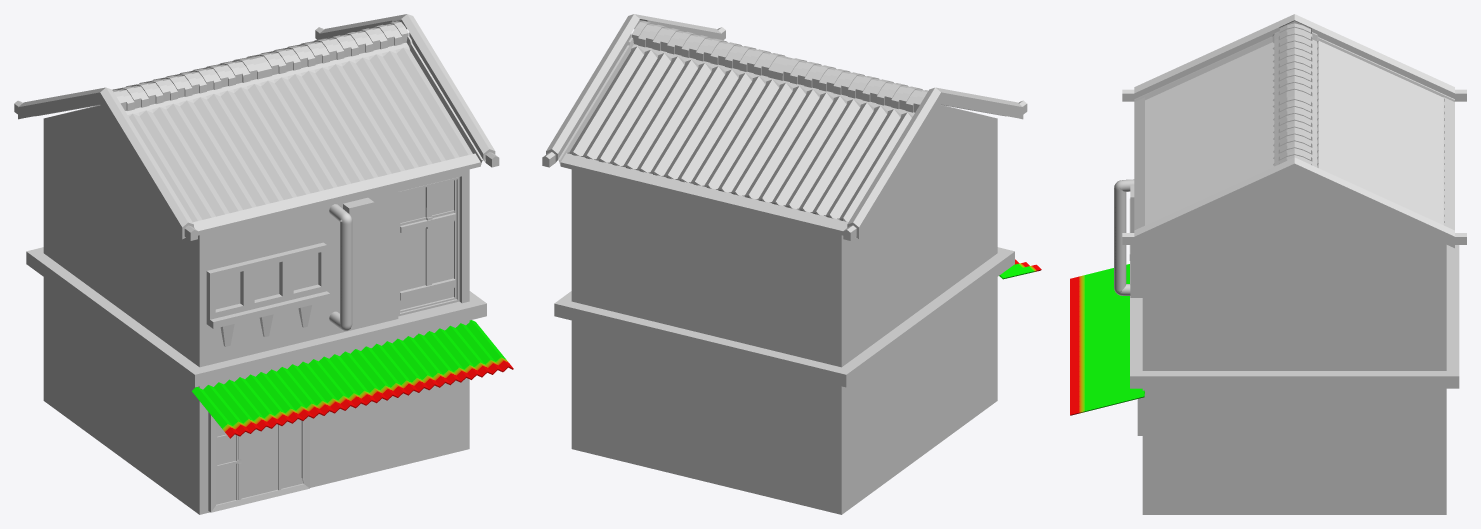
The model's file is RBGTEST.fbx.
The picture shows the model from 3 angles, left to right: view 1: azimuth 30°, elevation 25°; view 2: azimuth 150°, elevation 25°; view 3: azimuth 270°, elevation 25°; orthographic projection. The views are drawn at different scales.
Visible parts, largest first — view 1: Base, Roof, Roof.002, Cube.001, Cube.002, Roof.001, Cube, NurbsPath; view 2: Base, Roof, Roof.001; view 3: Base, Roof, Roof.002, Roof.001, NurbsPath, Cube.
Boxes of the visible parts, <box> form: Base: <box>26,105,486,514</box>; Roof: <box>14,14,499,240</box>; Roof.002: <box>192,320,513,438</box>; Cube.001: <box>206,242,330,346</box>; Cube.002: <box>208,412,309,512</box>; Roof.001: <box>113,21,408,110</box>; Cube: <box>343,197,374,310</box>; NurbsPath: <box>329,204,352,330</box>; Base: <box>554,105,1014,514</box>; Roof: <box>542,14,1027,240</box>; Roof.001: <box>631,21,928,112</box>; Base: <box>1130,175,1459,514</box>; Roof: <box>1122,14,1466,248</box>; Roof.002: <box>1070,264,1144,415</box>; Roof.001: <box>1278,23,1312,164</box>; NurbsPath: <box>1114,179,1134,295</box>; Cube: <box>1130,185,1142,297</box>.
Size of the model in its own units: 232 by 265 by 261.
